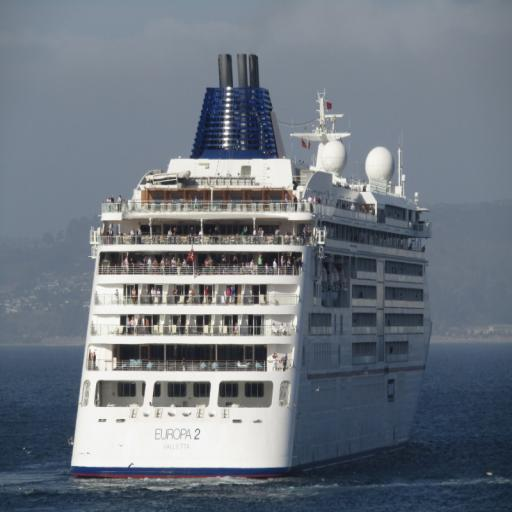cruises: (66, 34, 441, 475)
